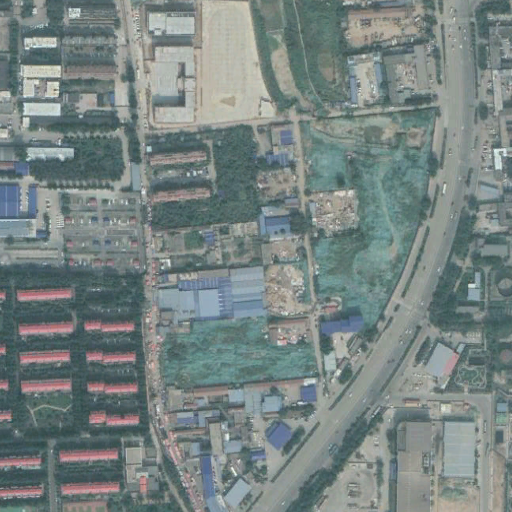cw: (302, 106, 436, 332), (151, 313, 321, 389)
